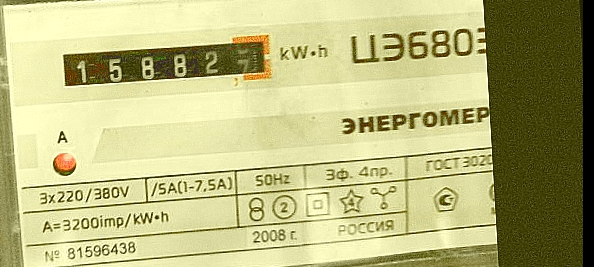1: (75, 55, 90, 85)
2: (202, 48, 221, 75)
5: (106, 55, 125, 86)
7: (236, 56, 249, 73)
8: (138, 53, 156, 82), (171, 50, 189, 79)
screen: (50, 25, 279, 99)
